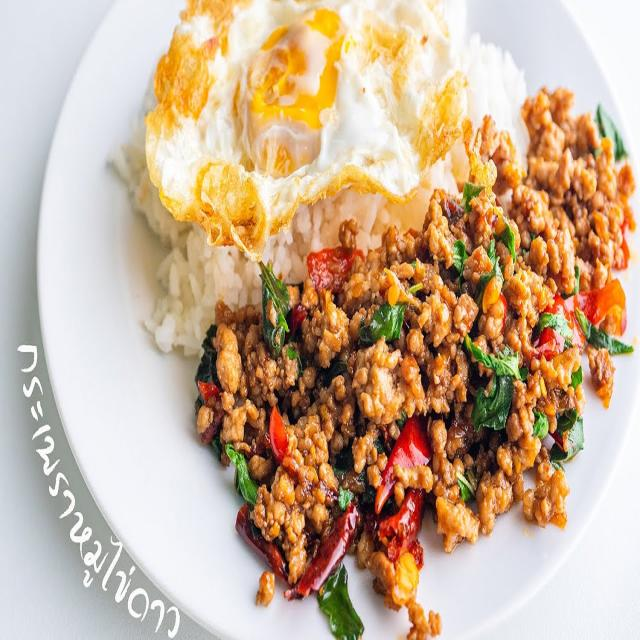basil chicken rice: (74, 21, 622, 554)
carb: (127, 151, 371, 295), (458, 17, 526, 144)
meat: (223, 280, 599, 589), (456, 107, 610, 511)
vegetable: (475, 323, 537, 462), (312, 554, 370, 640)
